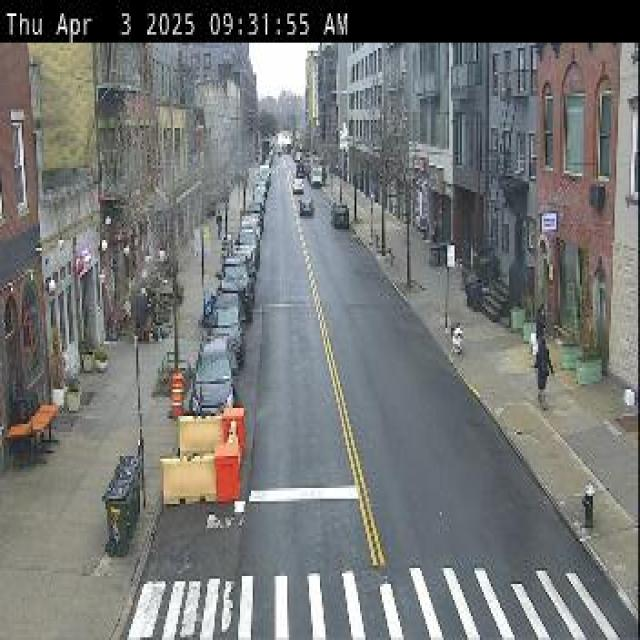open parking: (214, 203, 272, 435), (311, 158, 358, 242)
